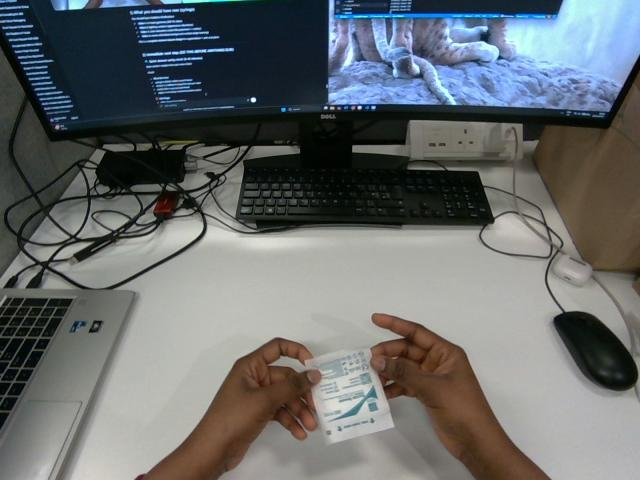gauze: (305, 349, 393, 443)
